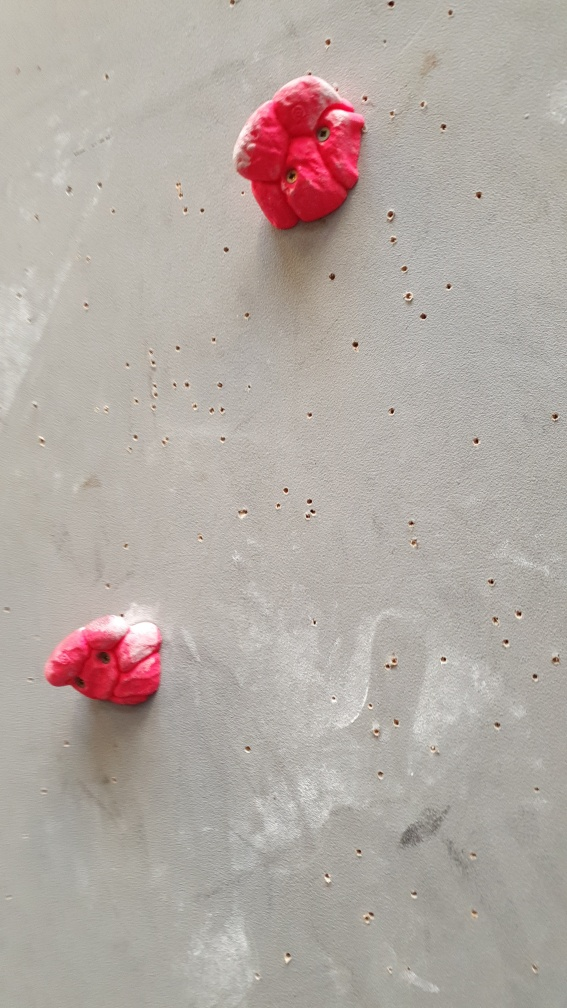Jug: (225, 72, 364, 239), (42, 610, 164, 709)
